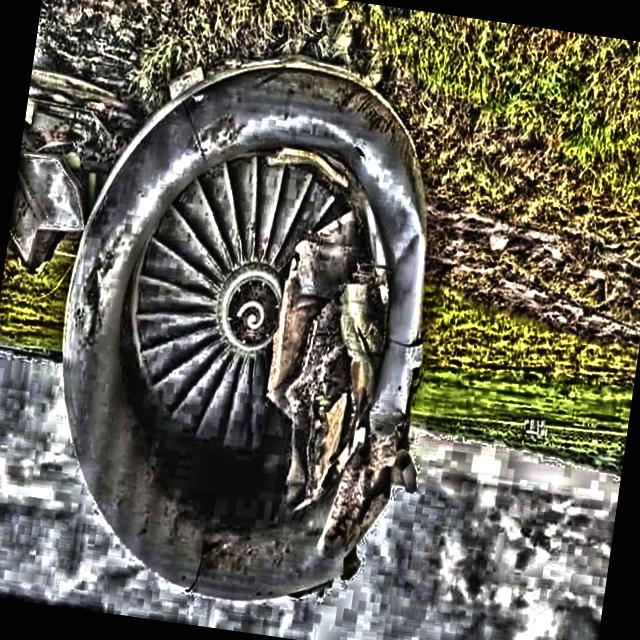dent: (378, 152, 436, 325), (366, 384, 414, 439)
